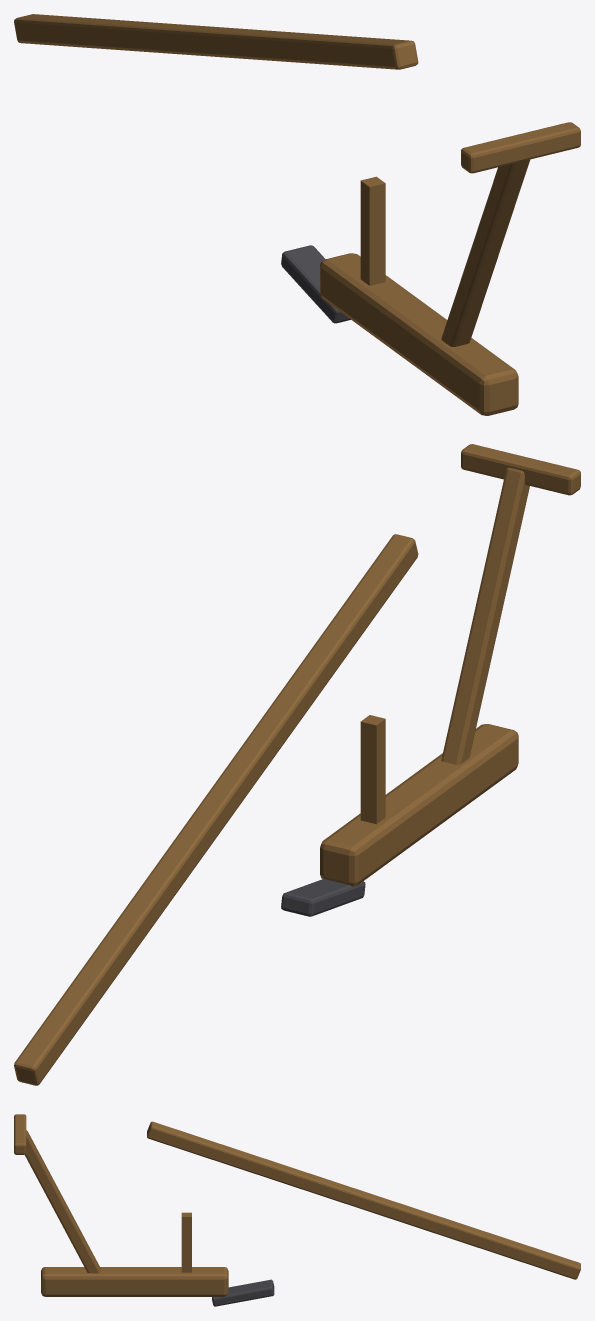
Rendered from karasaban.glb.
The picture shows the model from 3 angles, top to bottom: view 1: azimuth 30°, elevation 25°; view 2: azimuth 150°, elevation 25°; view 3: azimuth 270°, elevation 25°; orthographic projection. The views are drawn at different scales.
Parts seen in each view (by area): view 1: Govde; view 2: Govde; view 3: Govde.
Boxes of the visible parts, x1,y1,x2,y2 form: Govde: [14, 14, 580, 415]; Govde: [14, 444, 580, 1085]; Govde: [14, 1114, 580, 1306].
Size of the model in its own units: 0.1286 by 0.3486 by 1.
